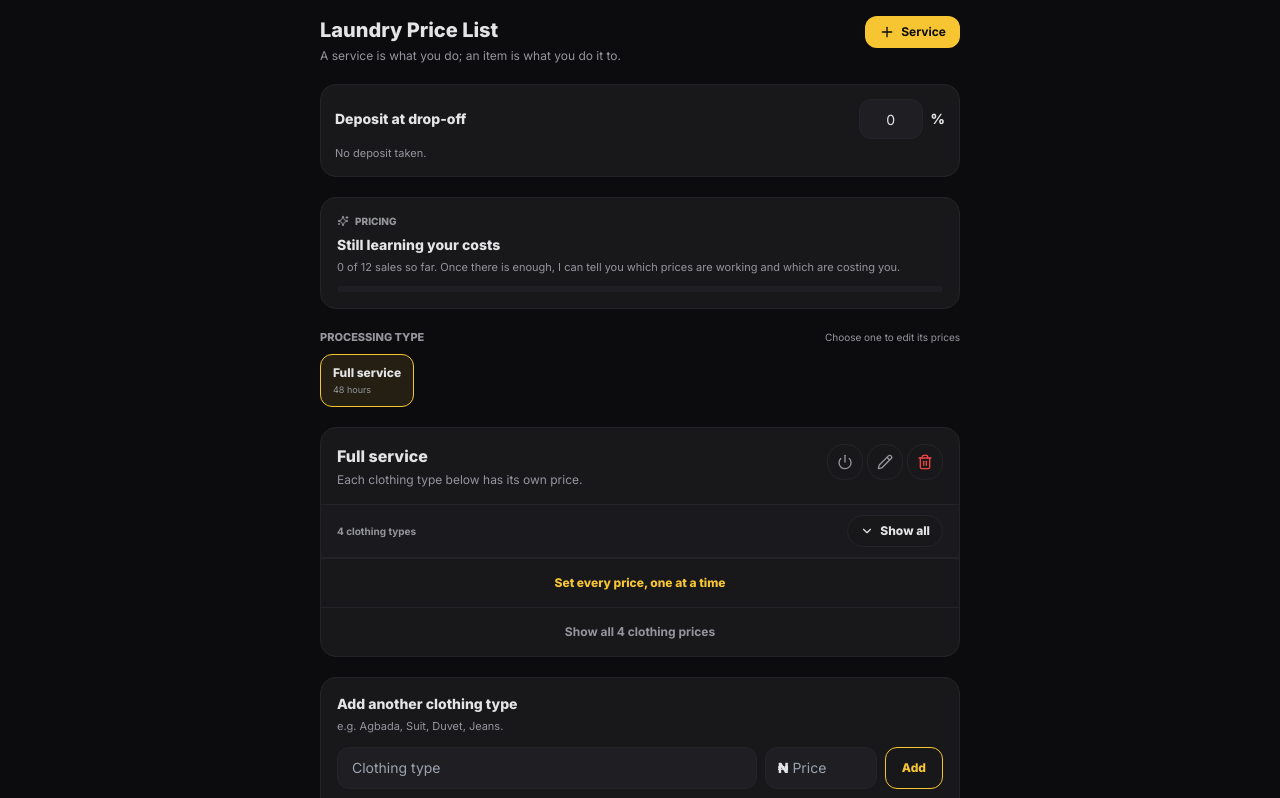
Test: a new per-item service with a typed price › "Yes" keeps ₦500 on everything
Click the button "Service".
click(913, 32)  # box [865, 16, 960, 48]
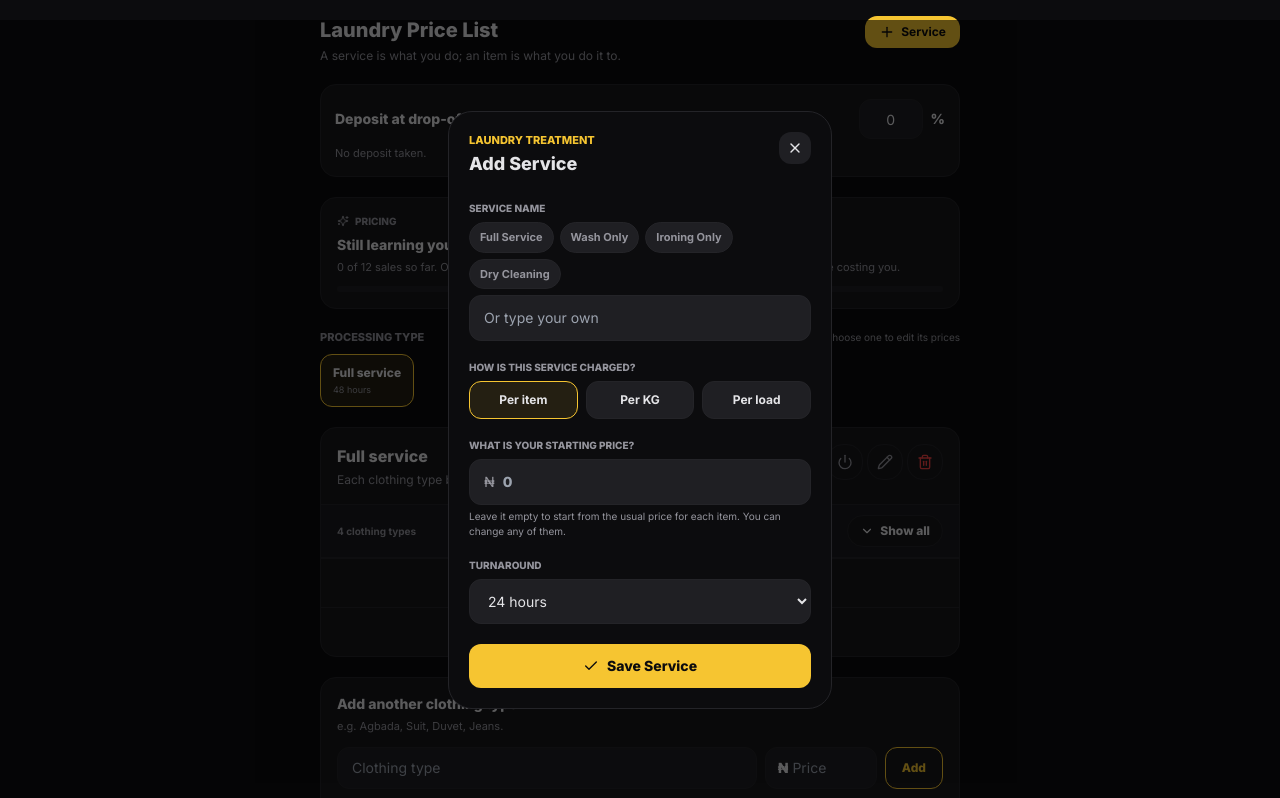
Type "Steam Press" into the field with placeholder "Or type your own".
click(640, 318); type("Steam Press")  # box [469, 295, 811, 341]
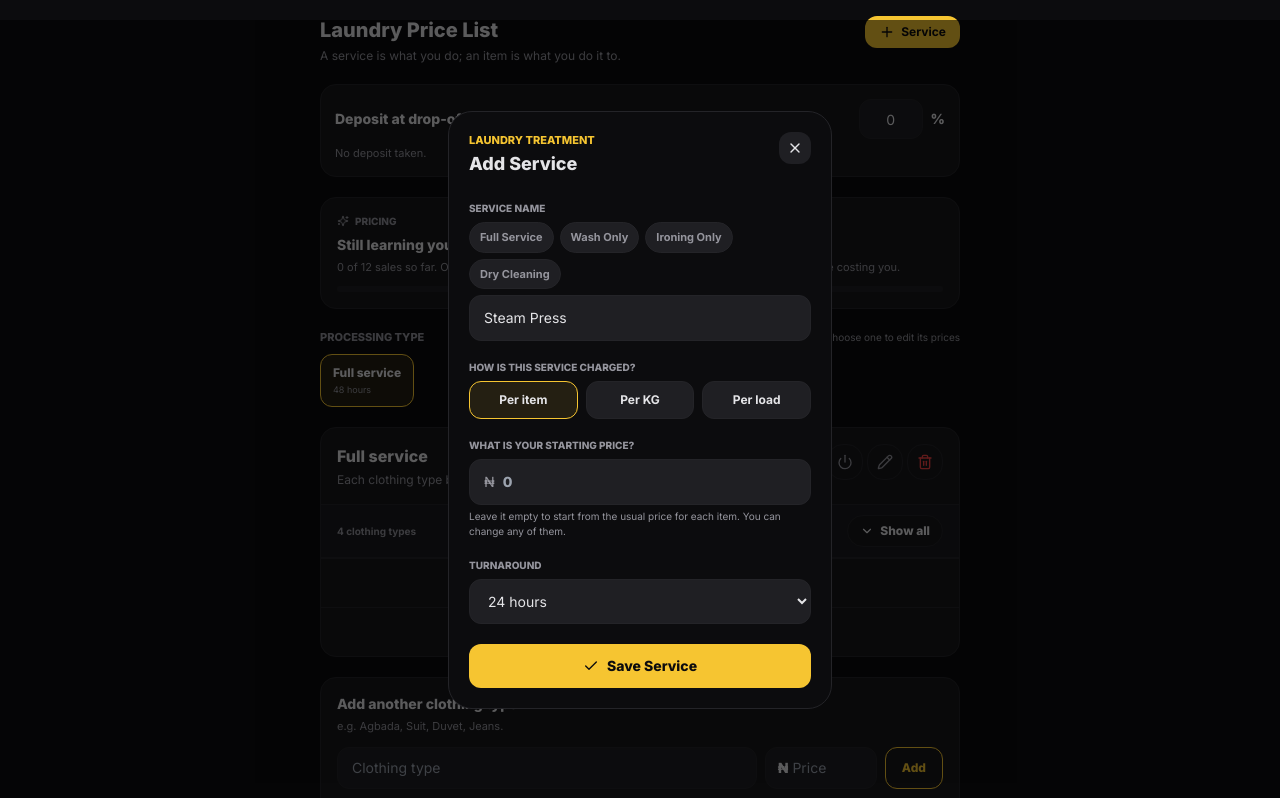
Type "500" into the field with placeholder "0".
click(649, 482); type("500")  # box [503, 472, 796, 492]
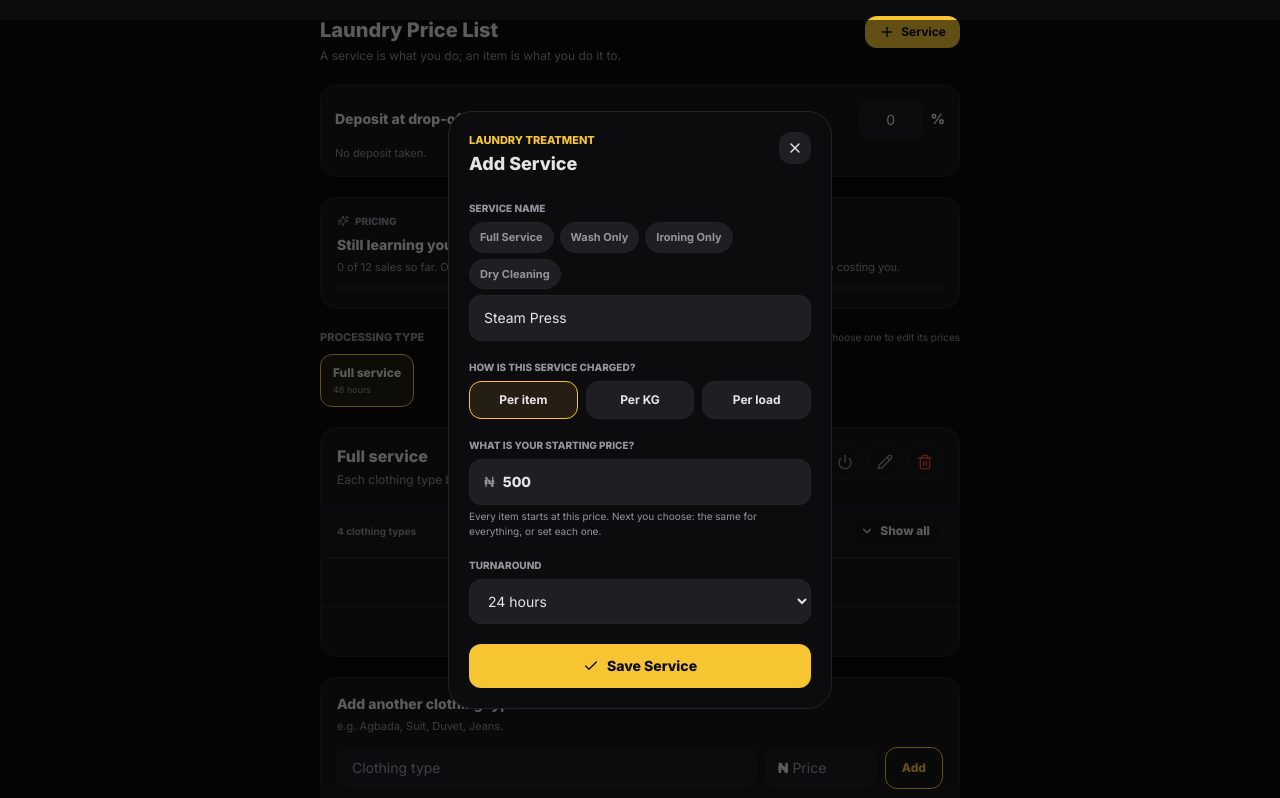
Click the button "Save Service".
click(640, 666)  # box [469, 644, 811, 688]
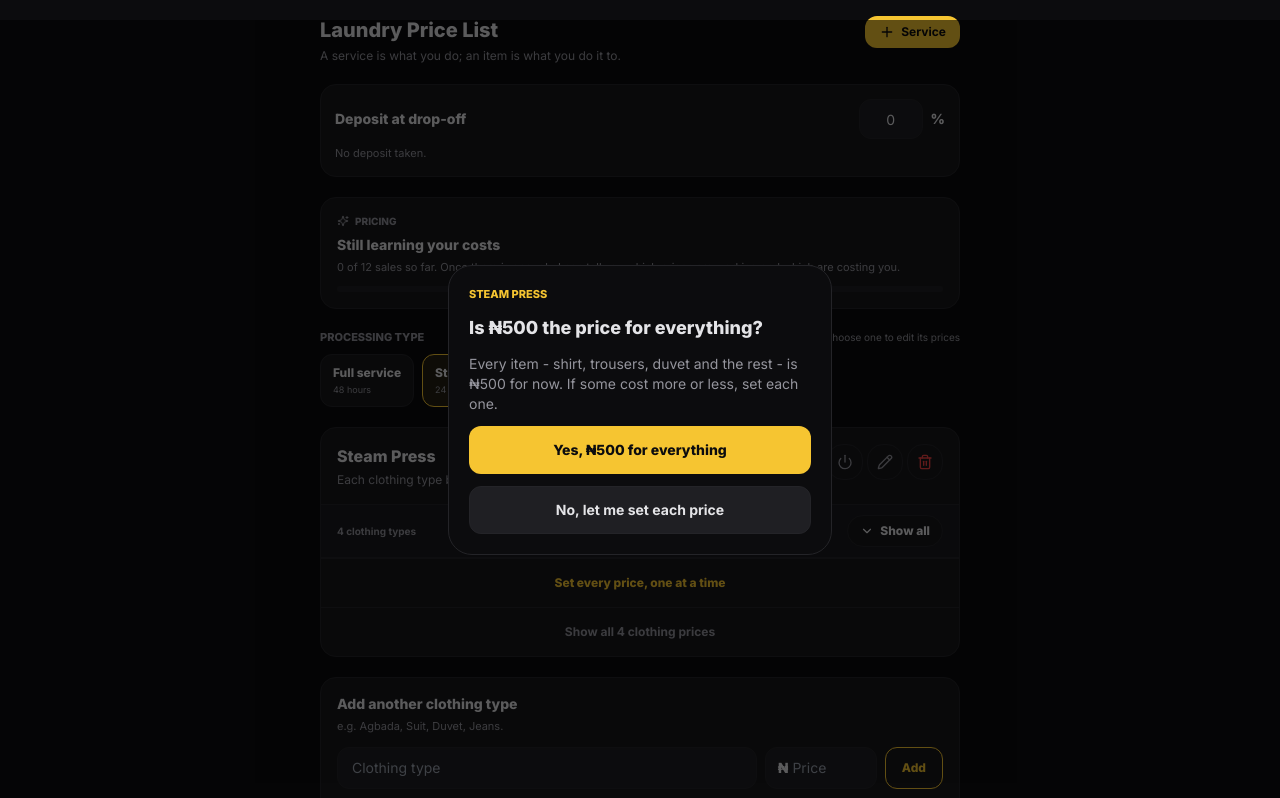
Click the button "Yes, ₦500 for everything".
click(640, 450)  # box [469, 426, 811, 474]
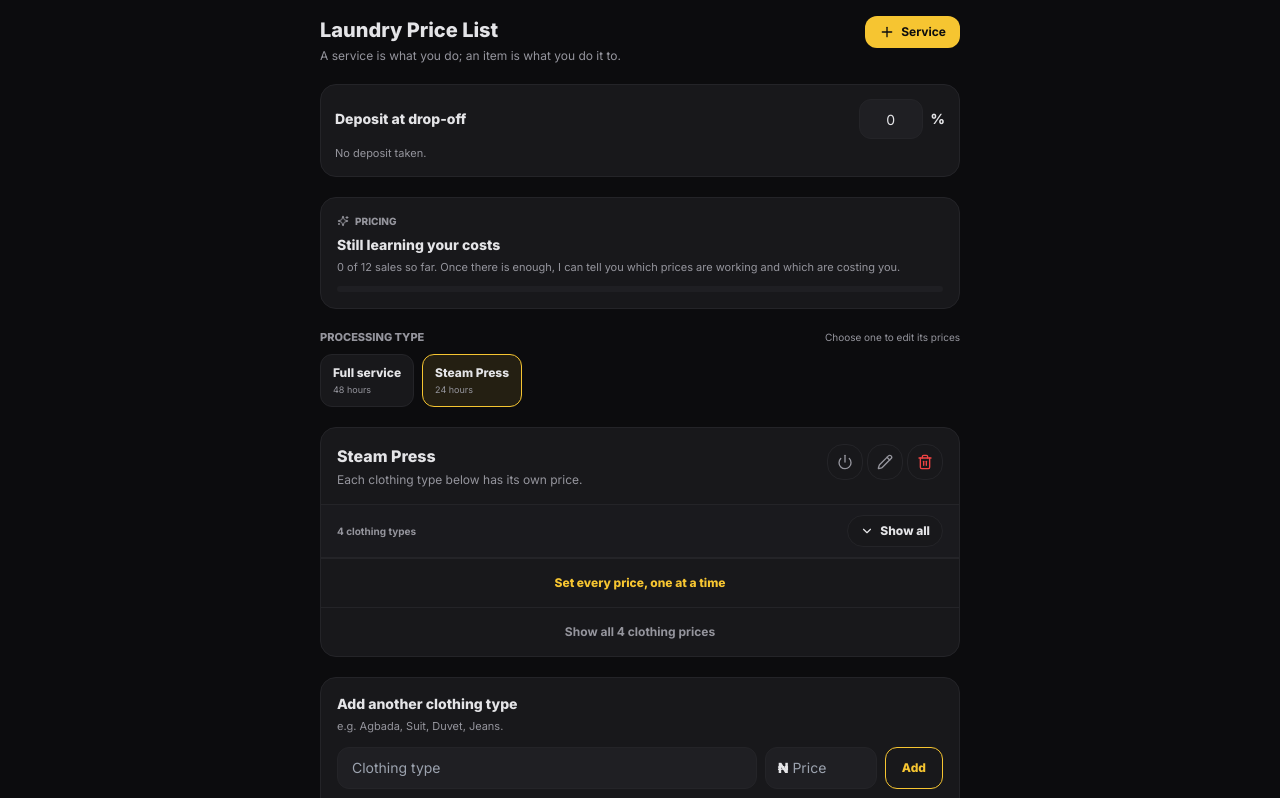
Check: the heading "price for everything?" is gone
